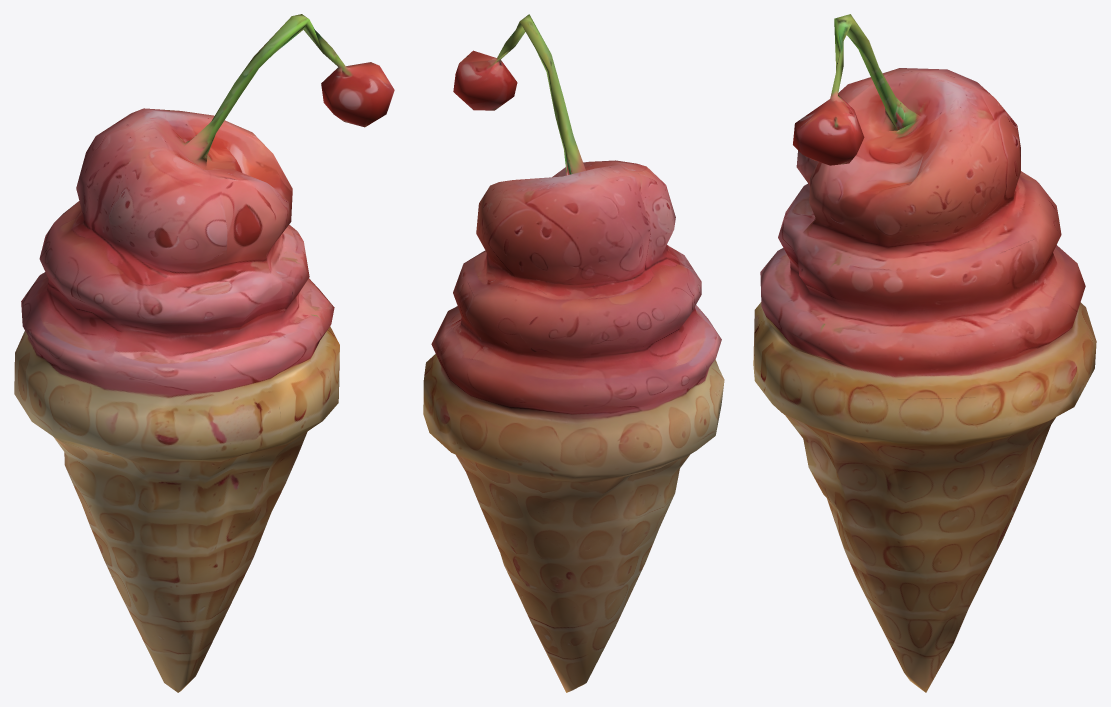
The model's file is IceCreamCone_3.fbx.
3 renders of one model, left to right at view 1: azimuth 30°, elevation 25°; view 2: azimuth 150°, elevation 25°; view 3: azimuth 270°, elevation 25°, orthographic. The views are drawn at different scales.
Parts seen in each view (by area): view 1: icecream3_mesh; view 2: icecream3_mesh; view 3: icecream3_mesh.
Boxes of the visible parts, bbox=[...] form: icecream3_mesh: bbox=[14, 14, 394, 692]; icecream3_mesh: bbox=[423, 14, 724, 692]; icecream3_mesh: bbox=[753, 14, 1096, 692].
Size of the model in its own units: 56.71 by 120 by 51.99.
